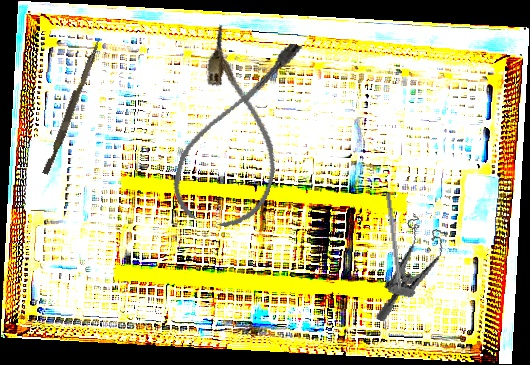Cannula: (166, 23, 308, 236)
Hook Surgical: (384, 191, 405, 307)
Pusher: (42, 35, 102, 177)
Speculum: (375, 210, 451, 332)
